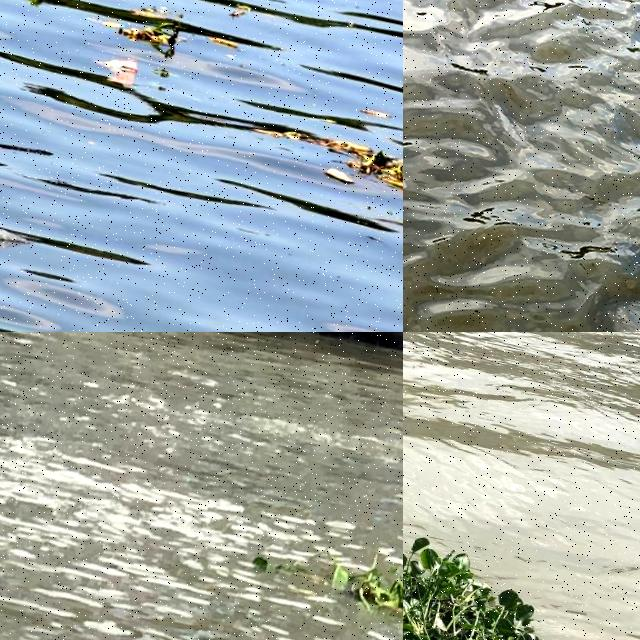water-hyacinth: (404, 451, 630, 640), (319, 527, 404, 634)
